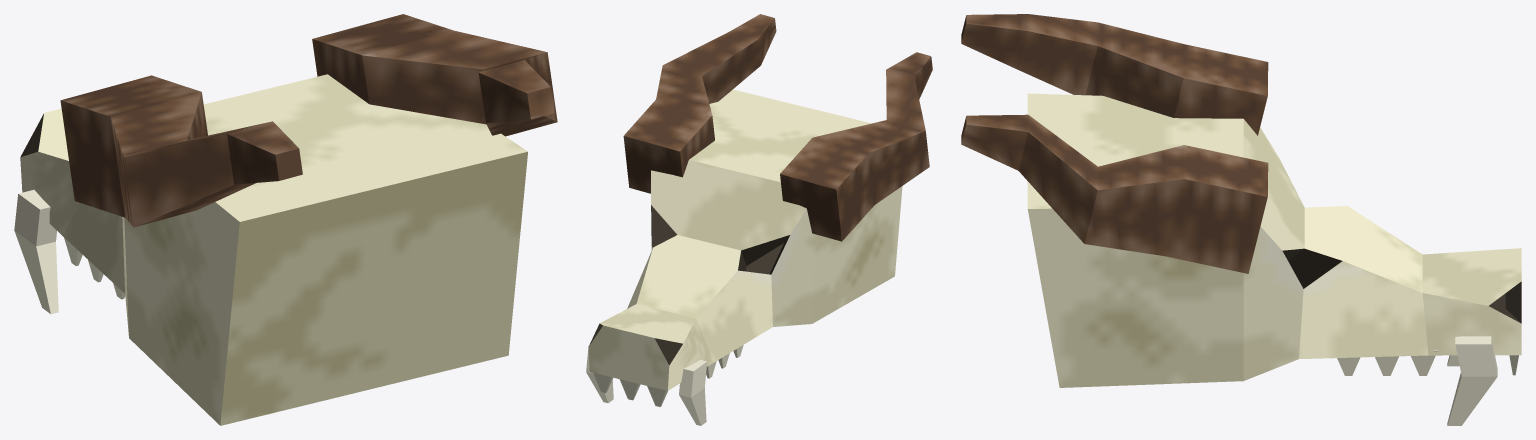
The model's file is SkullDragonModel.fbx.
3 renders of one model, left to right at view 1: azimuth 30°, elevation 25°; view 2: azimuth 150°, elevation 25°; view 3: azimuth 270°, elevation 25°, orthographic. The views are drawn at different scales.
Visible parts, largest first — view 1: SkullDragonModel; view 2: SkullDragonModel; view 3: SkullDragonModel.
Boxes of the visible parts, x1=… form: SkullDragonModel: x1=14, y1=14, x2=557, y2=425; SkullDragonModel: x1=586, y1=14, x2=932, y2=425; SkullDragonModel: x1=961, y1=14, x2=1521, y2=425.
Bounding box in the file's own units: 250 × 220 × 347.
